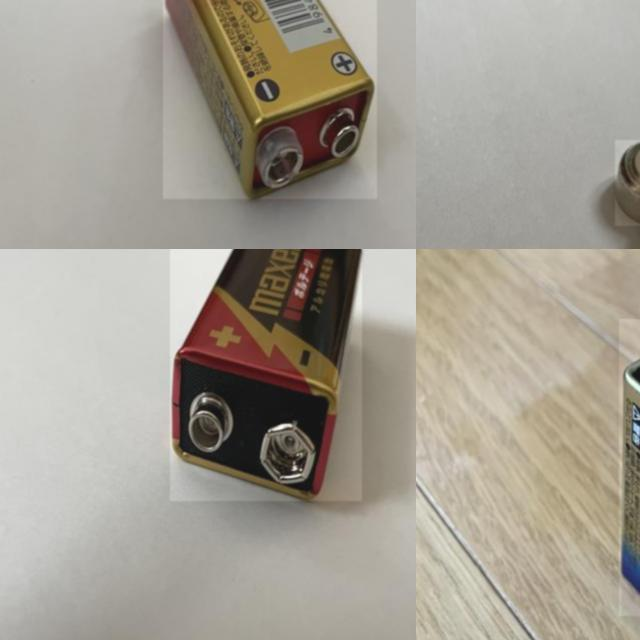9V: (170, 249, 362, 501), (163, 0, 377, 199)
